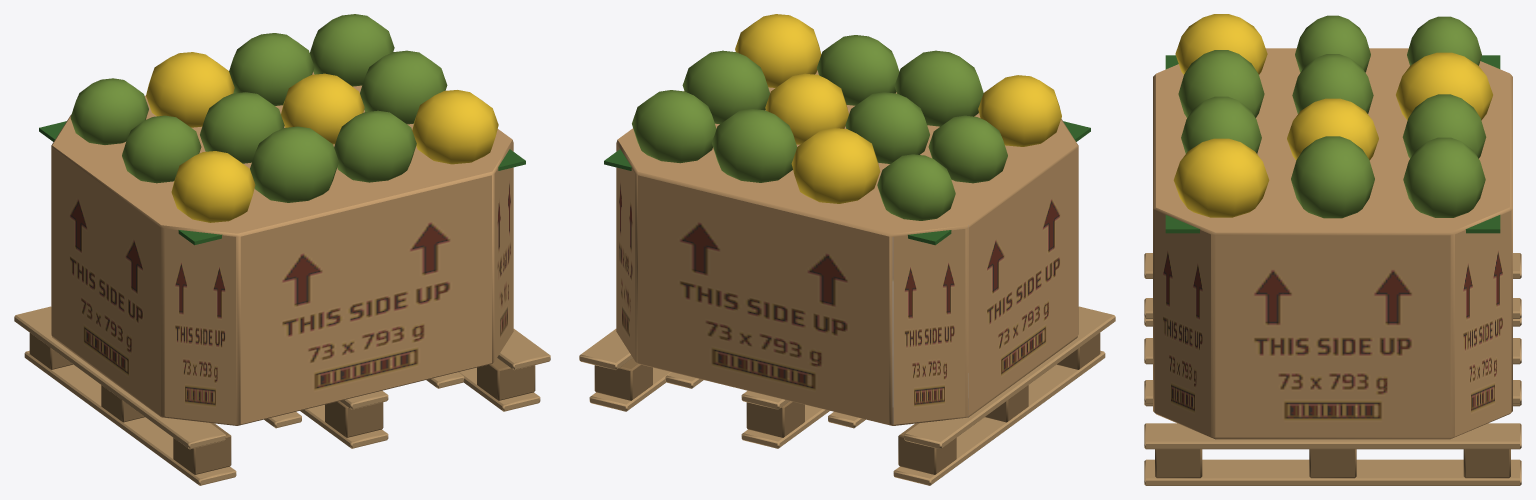
The model's file is produce_bin.glb.
The picture shows the model from 3 angles, left to right: view 1: azimuth 30°, elevation 25°; view 2: azimuth 150°, elevation 25°; view 3: azimuth 270°, elevation 25°; orthographic projection. The views are drawn at different scales.
Visible parts, largest first — view 1: produce_bin; view 2: produce_bin; view 3: produce_bin.
Boxes of the visible parts, box(x1,y1,x2,y2) form: produce_bin: box(14, 14, 550, 485); produce_bin: box(579, 14, 1115, 485); produce_bin: box(1144, 14, 1521, 485).
Bounding box in the file's own units: 5.25 × 4.13 × 4.4.
6 materials, 1 textured.
